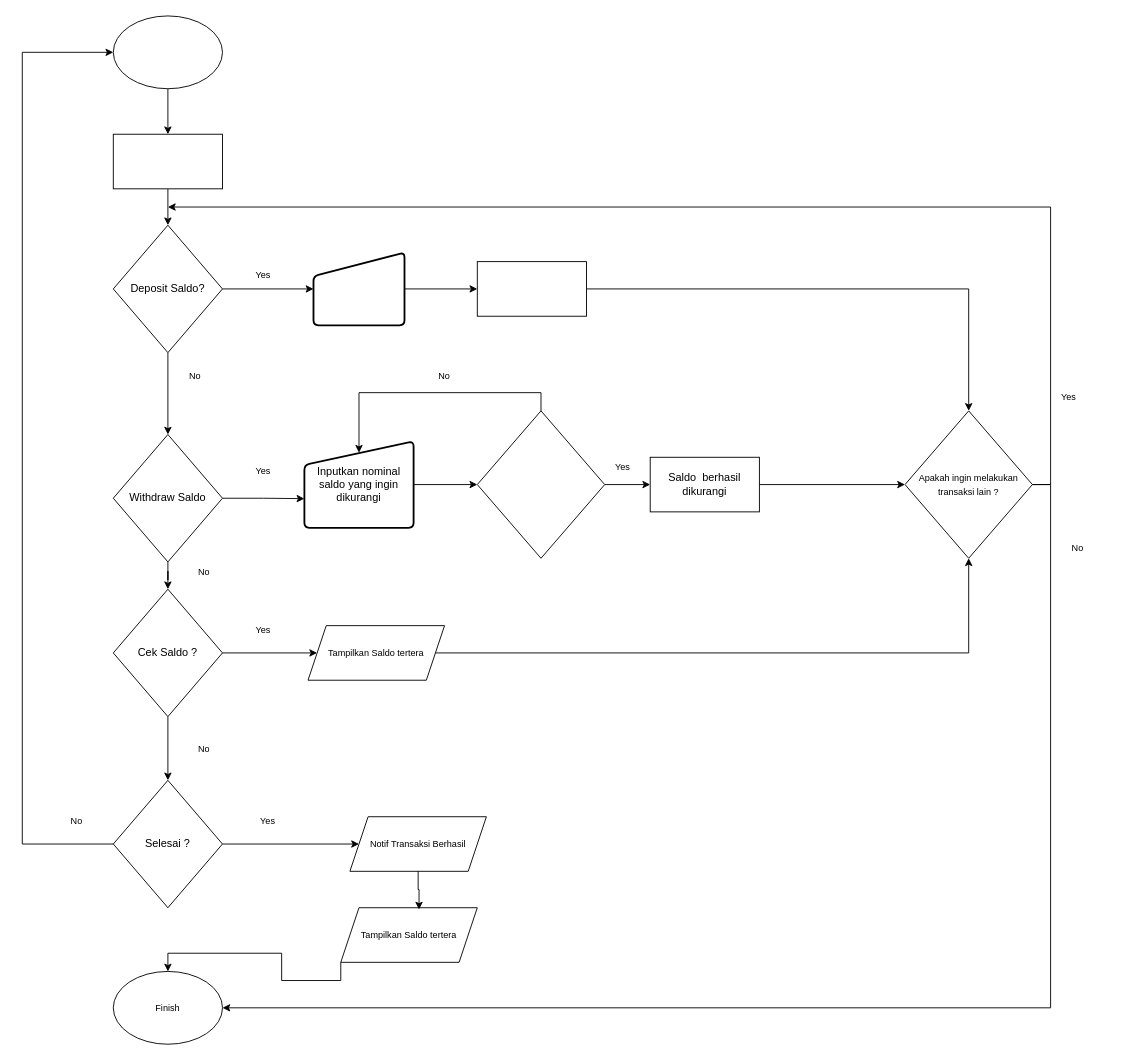
This 1121x1060 diagram has some shape labels left out. Each missing label, with the centre of its shape:
Apakah nominal saldo yg dikurangi > Saldo yg ada?: point 540,484
Inputkan saldo tambahan: point 358,288
Saldo telah ditambahkan: point 531,288
Set Nama dan Saldo awal: point 167,161
Start: point 167,52
